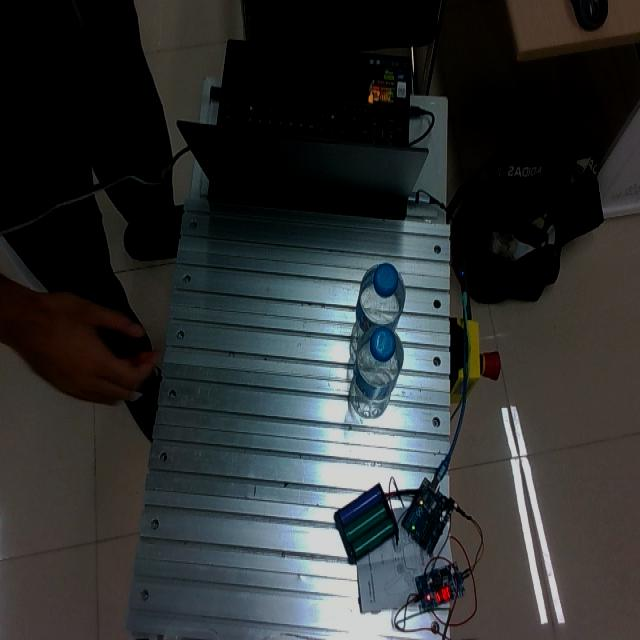lavie: (350, 261, 405, 363), (349, 322, 403, 418)
